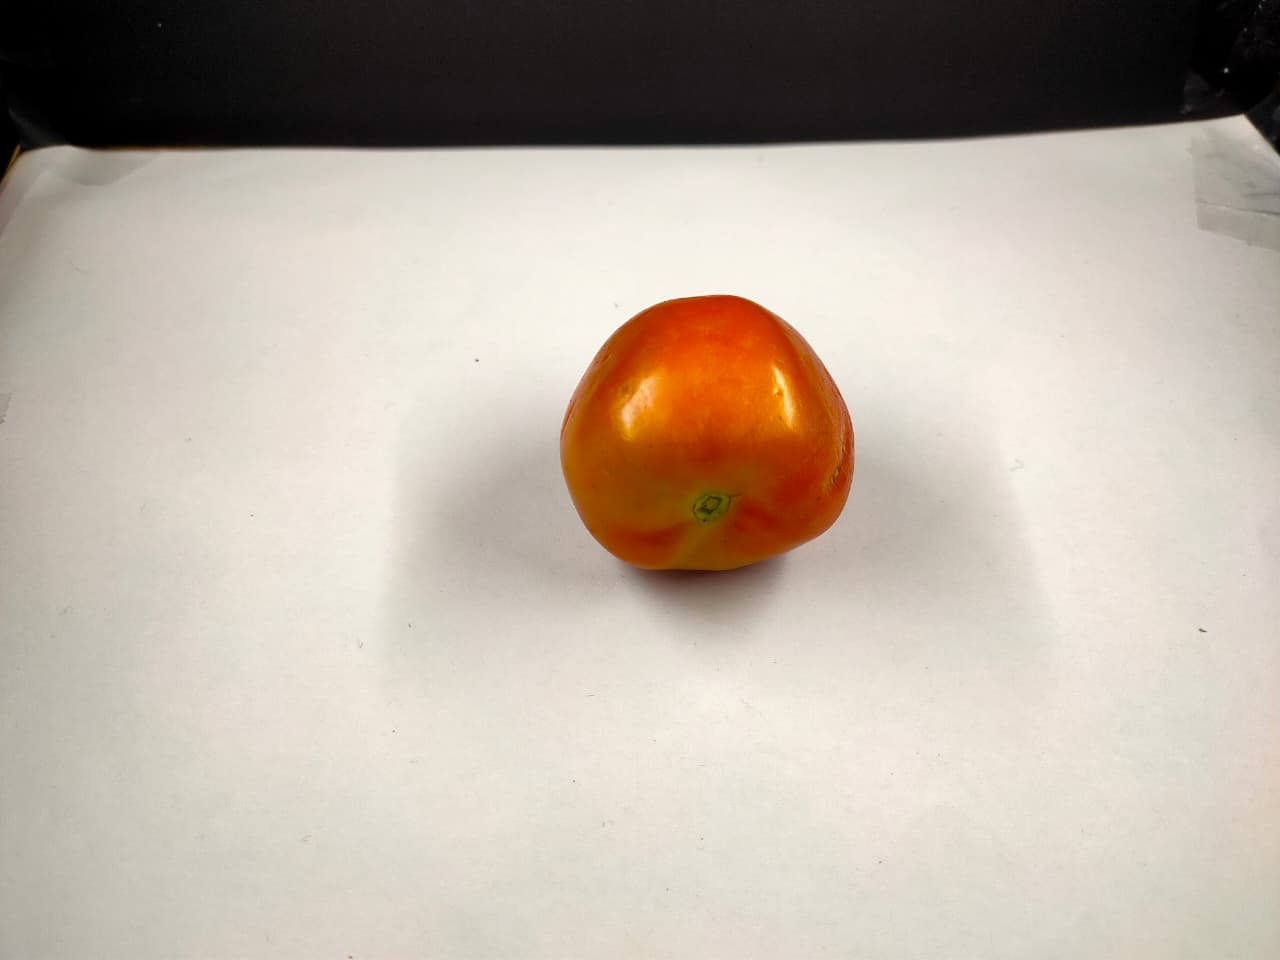unripe: (543, 269, 871, 600)
